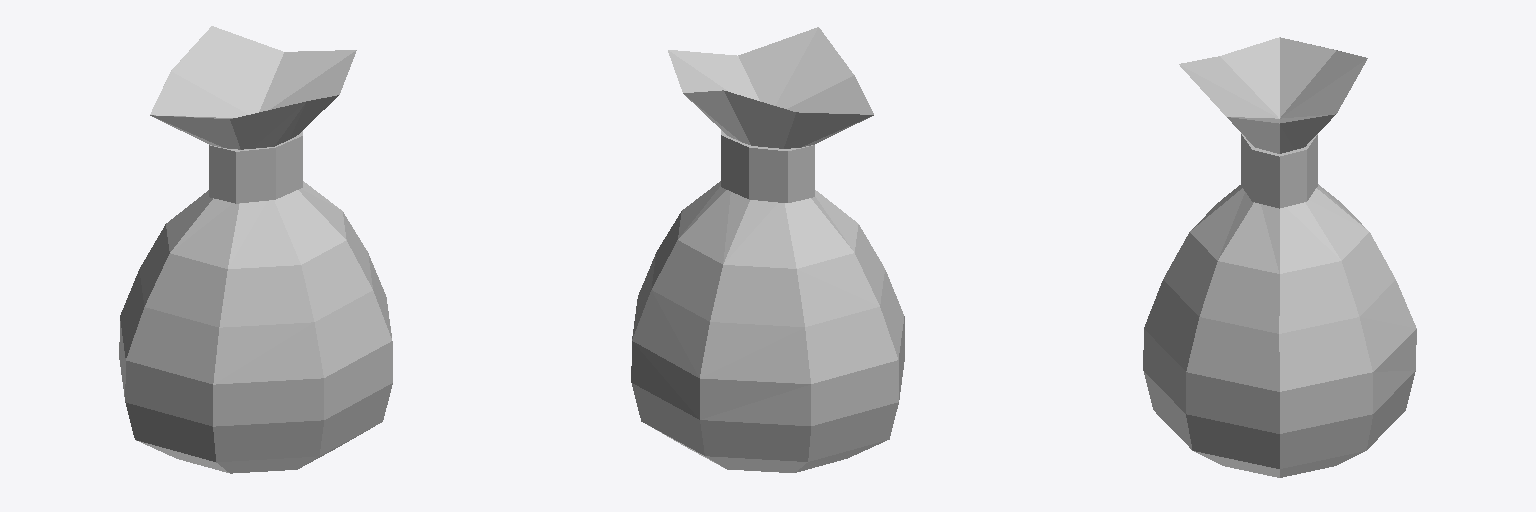
The model's file is Bomb Bag.obj.
The picture shows the model from 3 angles: view 1: azimuth 30°, elevation 25°; view 2: azimuth 150°, elevation 25°; view 3: azimuth 270°, elevation 25°; orthographic projection.
Parts seen in each view (by area): view 1: bag_pouch_geom-031C915C, bag_ring_geom-00011C3E; view 2: bag_pouch_geom-031C915C, bag_ring_geom-00011C3E; view 3: bag_pouch_geom-031C915C, bag_ring_geom-00011C3E.
Boxes of the visible parts, box(x1,y1,x2,y2) form: bag_pouch_geom-031C915C: box(119, 26, 392, 473); bag_ring_geom-00011C3E: box(209, 131, 302, 203); bag_pouch_geom-031C915C: box(631, 27, 904, 472); bag_ring_geom-00011C3E: box(721, 130, 814, 202); bag_pouch_geom-031C915C: box(1143, 37, 1416, 477); bag_ring_geom-00011C3E: box(1241, 133, 1317, 208).
Bounding box in the file's own units: 0.4466 × 0.6449 × 0.404.